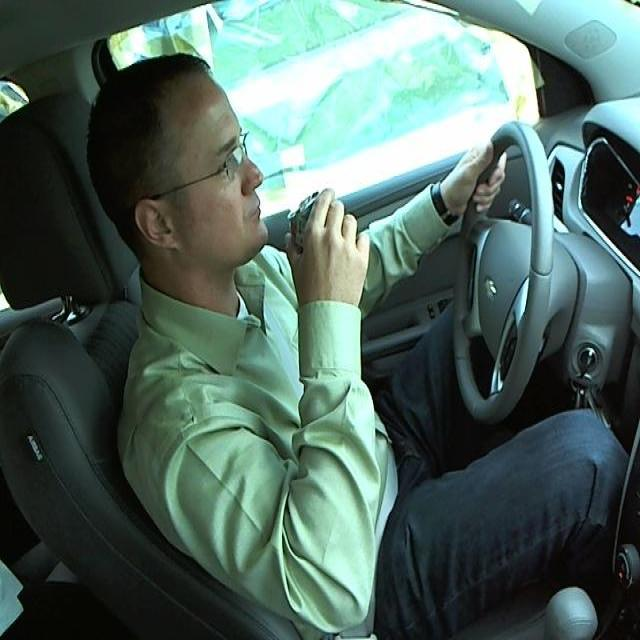Seatbelt: (288, 187, 347, 281)
